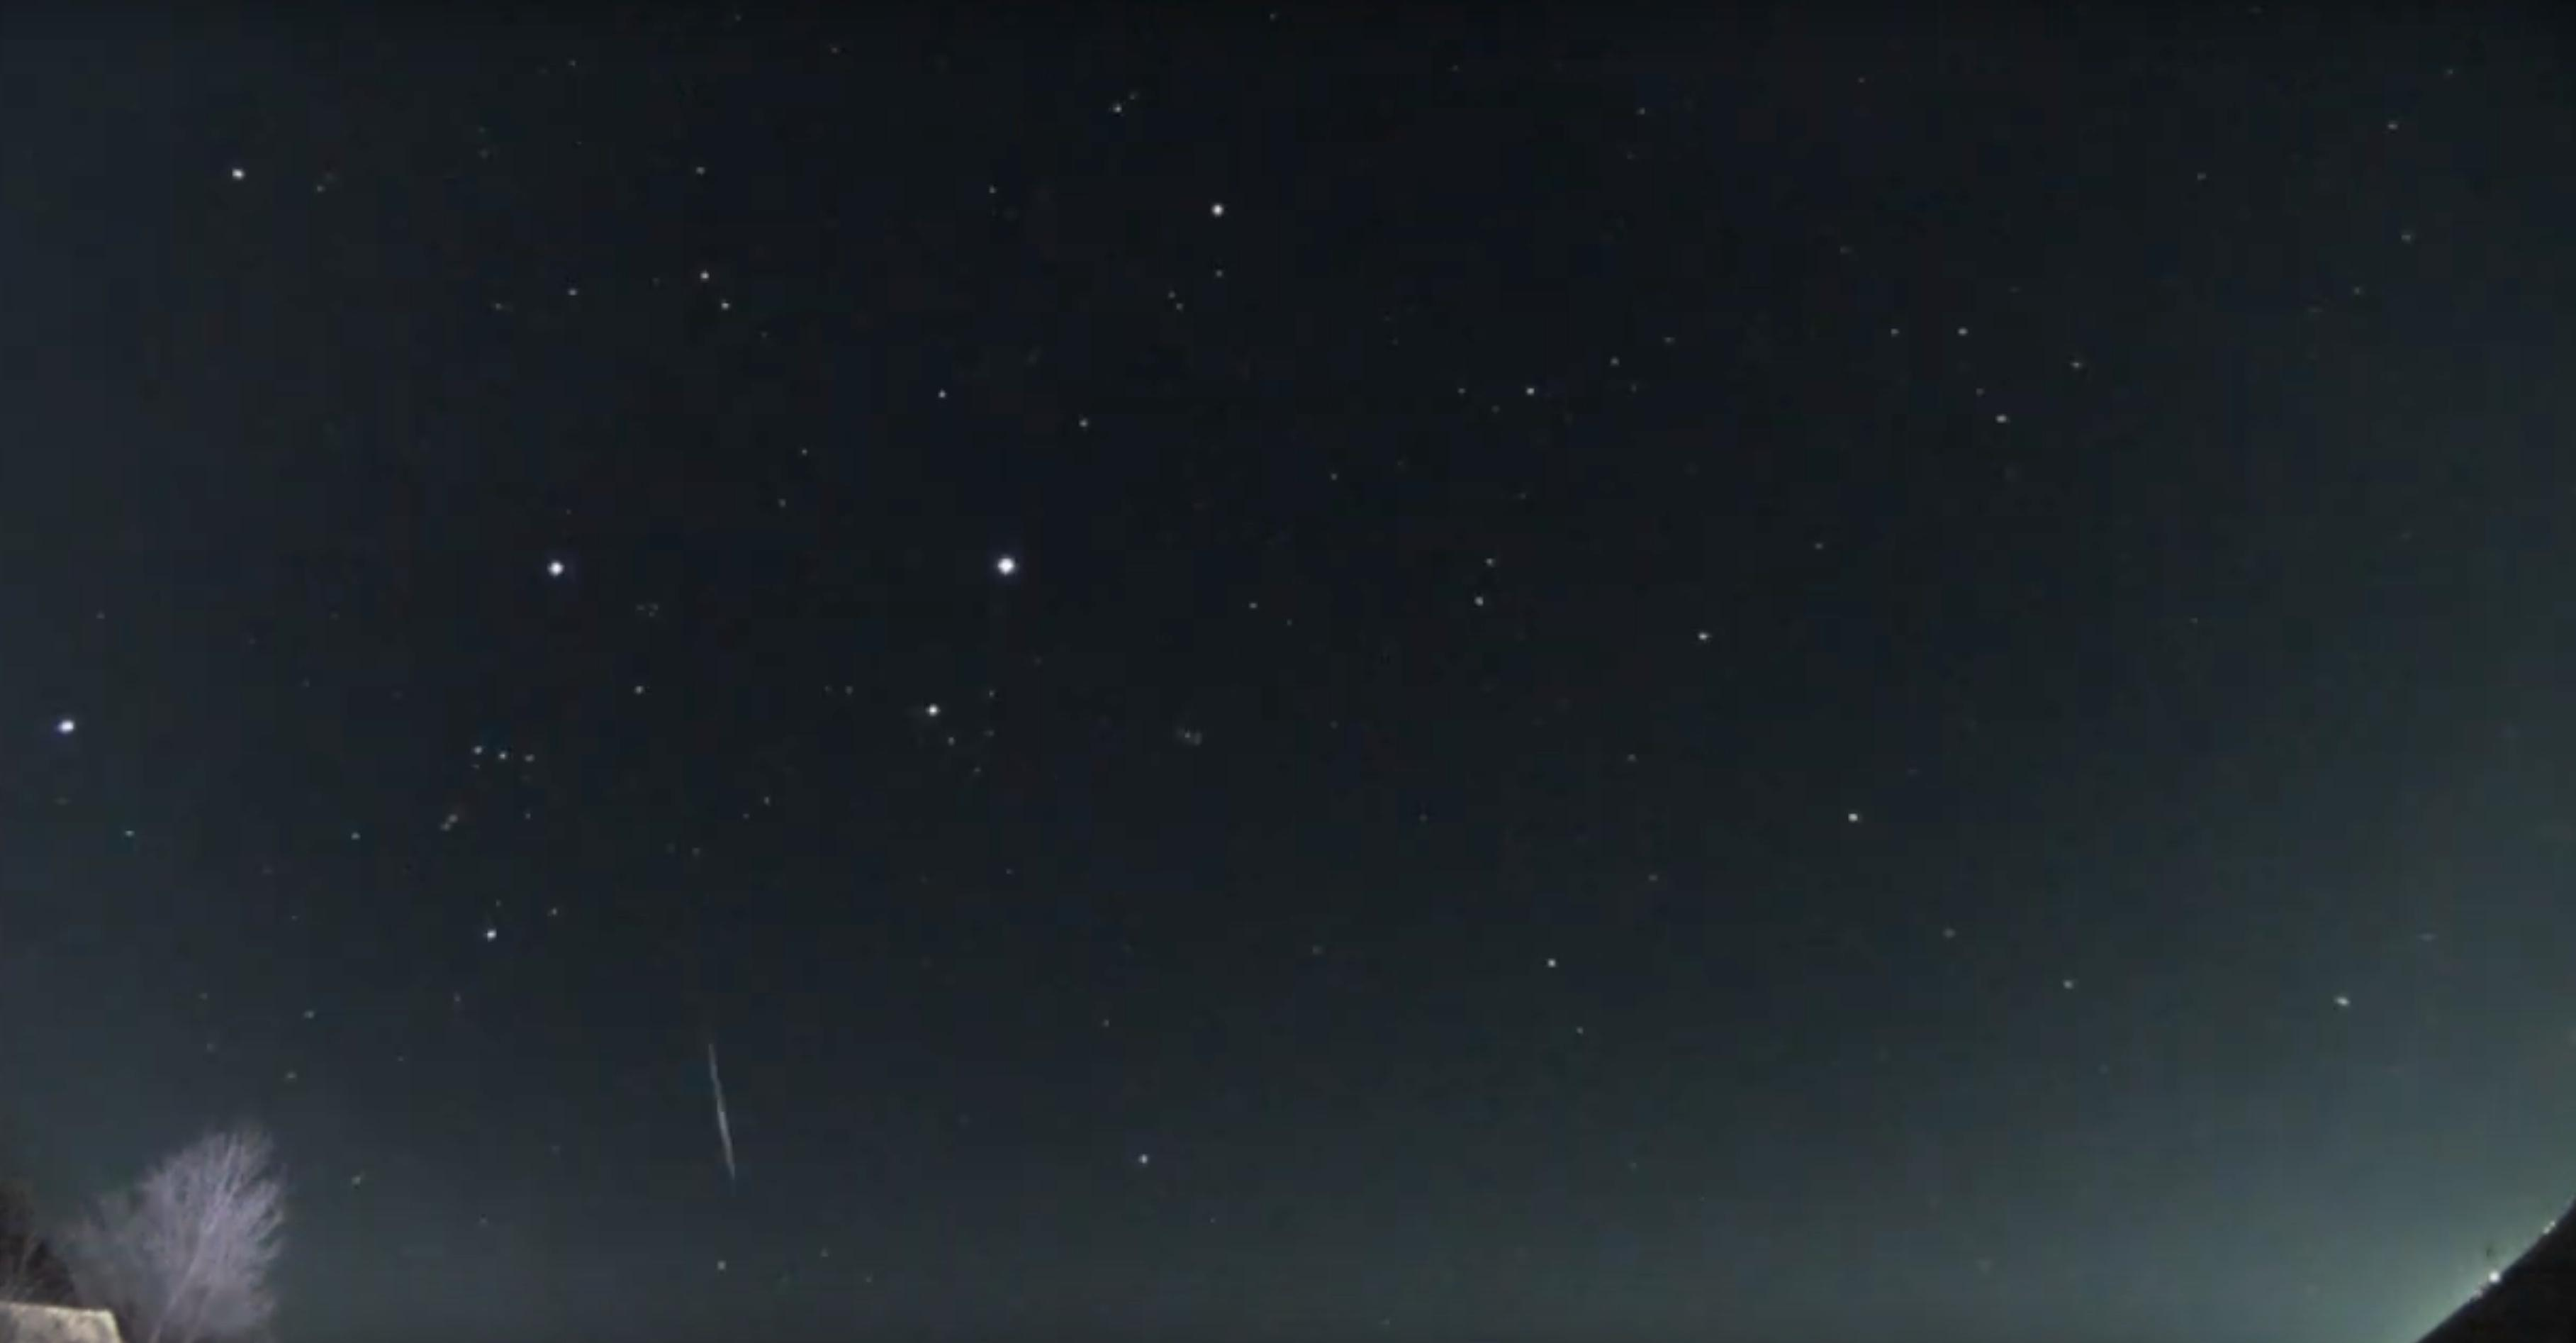meteorite: (707, 1031, 741, 1222)
